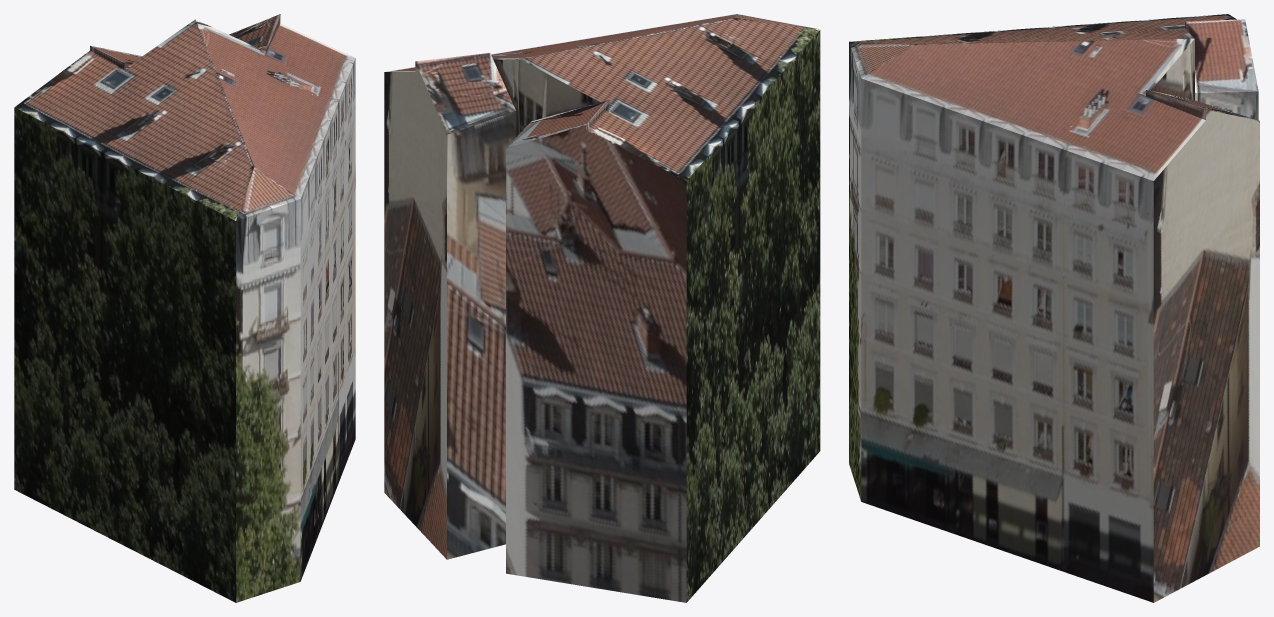
3 views of the same model, side by side, from view 1: azimuth 30°, elevation 25°; view 2: azimuth 150°, elevation 25°; view 3: azimuth 270°, elevation 25° (orthographic). The views are drawn at different scales.
Parts seen in each view (by area): view 1: Z_UP; view 2: Z_UP; view 3: Z_UP.
Part boxes in pixels (x1,y1,x2,y2): Z_UP: (14, 14, 355, 602); Z_UP: (384, 14, 820, 602); Z_UP: (849, 14, 1259, 602).
Size of the model in its own units: 19.08 by 26.15 by 19.96.
2 materials, 1 textured.
